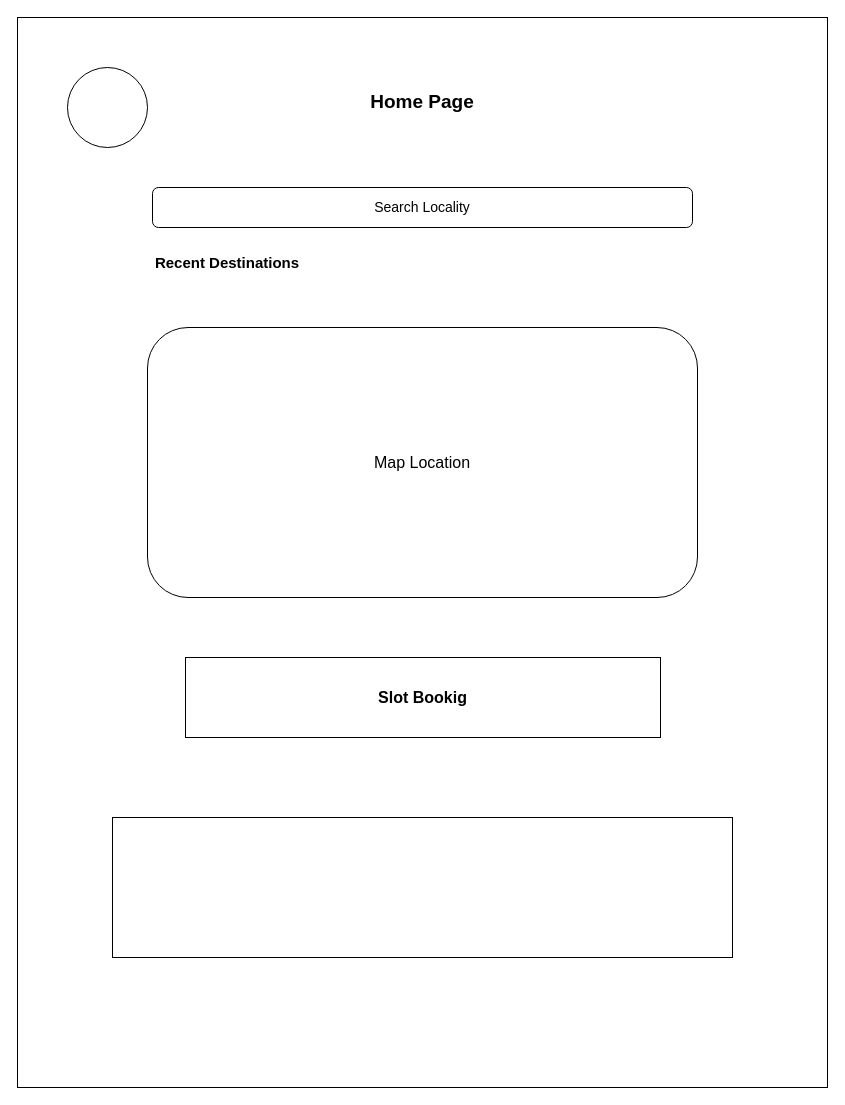
Image size: 845x1105. Some labels were removed from this diagram. Each missing label, with the centre of its shape:
"Top Recommendations" belongs at pixel 422 887.
"User" belongs at pixel 107 107.
